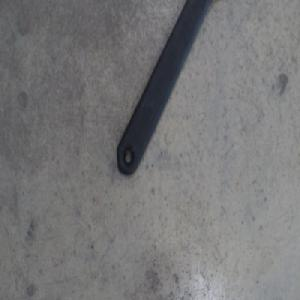AdjustableWrench: (116, 0, 213, 175)
